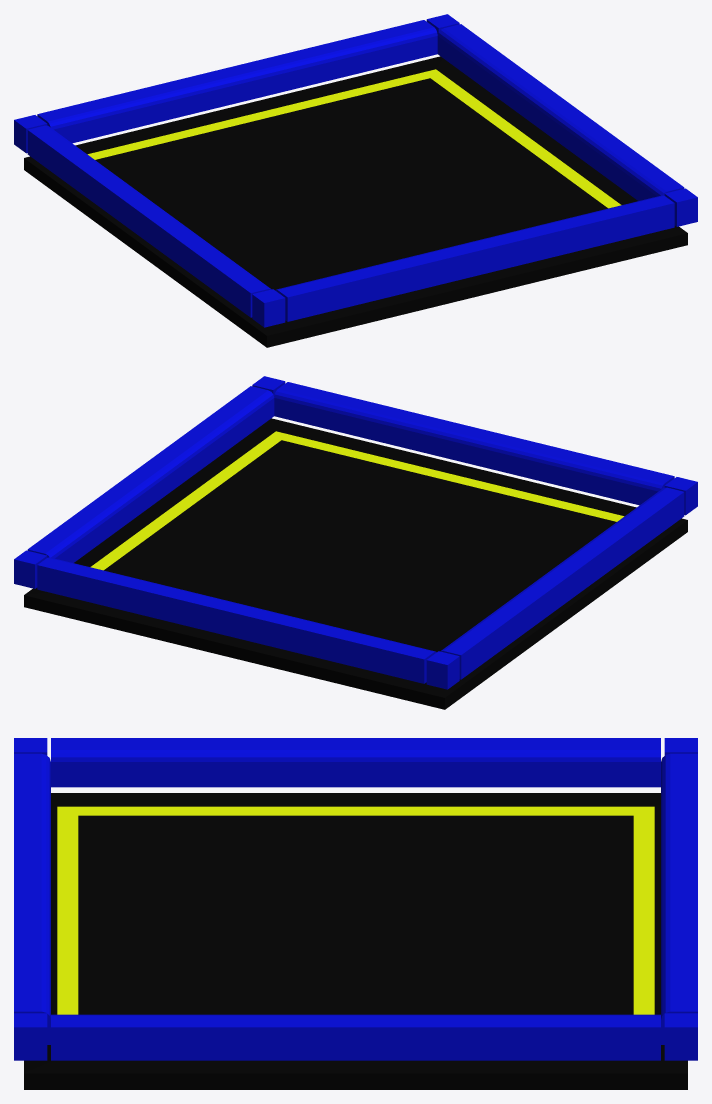
Rendered from Trampoline.fbx.
3 views of the same model, one above another, from view 1: azimuth 30°, elevation 25°; view 2: azimuth 150°, elevation 25°; view 3: azimuth 270°, elevation 25° (orthographic). The views are drawn at different scales.
Visible parts, largest first — view 1: Base, Base.001, Base.008, Base.002, Base.003, Base.007, Base.004, Base.006; view 2: Base, Base.008, Base.001, Base.002, Base.003, Base.006, Base.005, Base.007; view 3: Base, Base.003, Base.002, Base.001, Base.008, Base.004, Base.005, Base.006, Base.007.
Part boxes in pixels (<box>): Base: <box>24,56,687,347</box>; Base.001: <box>37,20,437,143</box>; Base.008: <box>275,195,674,321</box>; Base.002: <box>437,24,684,200</box>; Base.003: <box>27,125,271,317</box>; Base.007: <box>252,289,285,327</box>; Base.004: <box>664,188,697,226</box>; Base.006: <box>14,115,47,153</box>; Base: <box>24,418,687,709</box>; Base.008: <box>274,382,674,505</box>; Base.001: <box>37,557,436,683</box>; Base.002: <box>27,386,274,562</box>; Base.003: <box>440,487,684,679</box>; Base.006: <box>426,651,459,689</box>; Base.005: <box>14,550,47,588</box>; Base.007: <box>664,477,697,515</box>; Base: <box>24,793,687,1089</box>; Base.003: <box>51,738,660,787</box>; Base.002: <box>51,1014,660,1060</box>; Base.001: <box>661,753,697,1044</box>; Base.008: <box>14,753,50,1044</box>; Base.004: <box>14,1013,47,1060</box>; Base.005: <box>664,1013,697,1060</box>; Base.006: <box>664,738,697,755</box>; Base.007: <box>14,738,47,755</box>.
Size of the model in its own units: 340 by 36.62 by 340.
